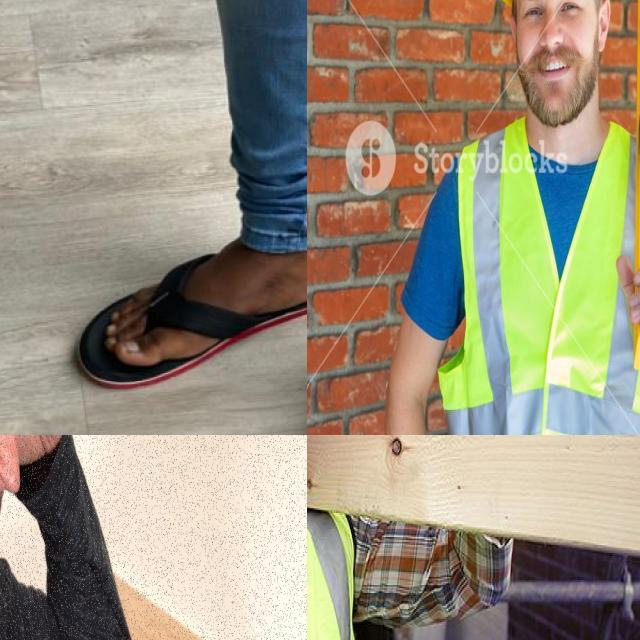Ear-protection: (0, 435, 90, 640)
No_Ear-Protection: (596, 0, 611, 53)
Sandals: (75, 233, 307, 389)
face_nomask: (504, 0, 609, 110)
hand_noglove: (610, 253, 640, 392)
person: (389, 0, 640, 435), (307, 435, 517, 640)
vest: (443, 122, 640, 435)
